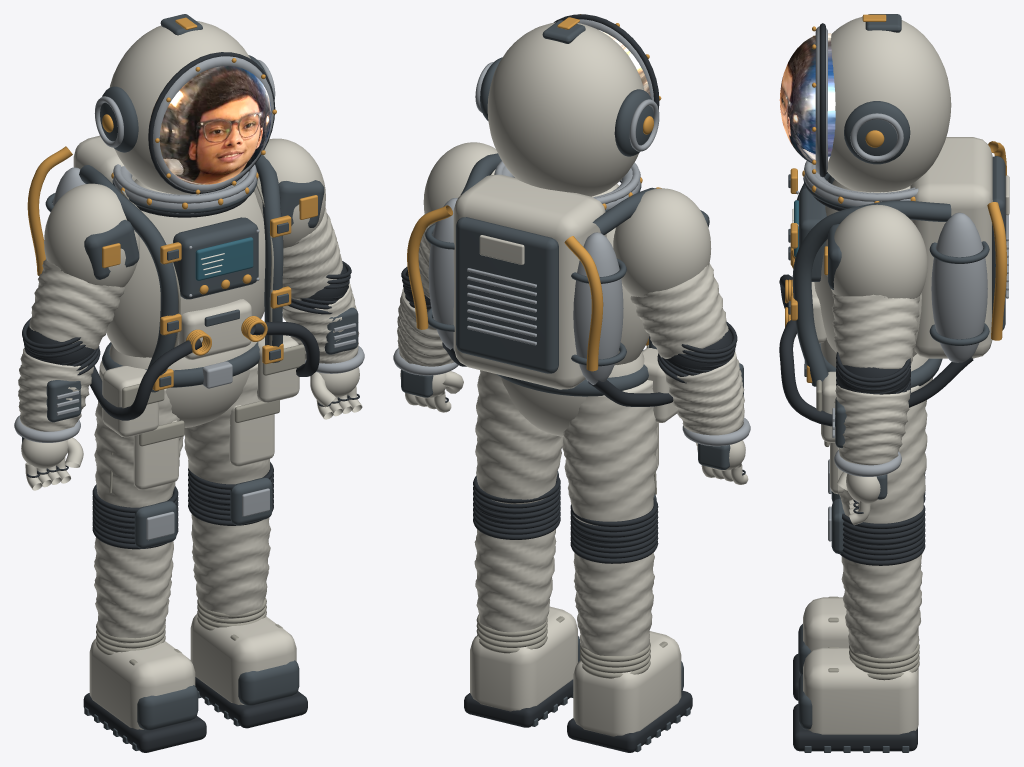
Rendered from explorer-suit.glb.
The picture shows the model from 3 angles, left to right: view 1: azimuth 30°, elevation 25°; view 2: azimuth 150°, elevation 25°; view 3: azimuth 270°, elevation 25°; orthographic projection.
Visible parts, largest first — view 1: Helmet_visor, Torso_pressure_garment, Helmet_shell, L_shin, R_shin, L_boot, L_shoulder, R_boot, L_upper_arm, L_thigh, R_thigh, Hip_garment (+45 smaller); view 2: Helmet_shell, Pack_rear_panel, Life_support_pack, L_thigh, L_shoulder, R_thigh, L_shin, R_shin, L_boot, R_boot, L_upper_arm, L_oxygen_tank (+26 smaller); view 3: Helmet_shell, R_boot, Life_support_pack, R_shoulder, R_shin, R_oxygen_tank, R_upper_arm, R_harness, R_forearm, Helmet_visor, R_thigh, R_oxygen_hose (+39 smaller).
Boxes of the visible parts, x1,y1,x2,y2 form: Helmet_visor: (149,66,271,184); Torso_pressure_garment: (106,179,265,357); Helmet_shell: (109,21,250,194); L_shin: (94,537,173,648); R_shin: (191,514,270,623); L_boot: (89,638,195,729); L_shoulder: (44,183,139,287); R_boot: (190,613,296,704); L_upper_arm: (29,259,124,349); L_thigh: (94,360,183,507); R_thigh: (184,364,269,484); Hip_garment: (109,341,257,427); Helmet_shell: (487,22,644,196); Pack_rear_panel: (456,217,558,373); Life_support_pack: (453,174,606,389); L_thigh: (562,380,658,525); L_shoulder: (613,188,711,297); R_thigh: (475,370,563,504); L_shin: (573,553,654,662); R_shin: (474,529,556,641); L_boot: (573,631,681,736); R_boot: (470,606,577,711); L_upper_arm: (630,263,728,358); L_oxygen_tank: (573,232,623,384); Helmet_shell: (827,16,951,192); R_boot: (803,647,918,734); Life_support_pack: (910,137,992,358); R_shoulder: (827,204,927,298); R_shin: (841,554,922,661); R_oxygen_tank: (931,212,987,362); R_upper_arm: (832,292,919,368); R_harness: (792,200,951,386); R_forearm: (834,385,910,465); Helmet_visor: (779,33,835,164); R_thigh: (839,384,927,523); R_oxygen_hose: (779,320,973,426).
Size of the model in its own units: 1.11 by 2.12 by 0.636.
Materials: 9 (1 with a texture image).
